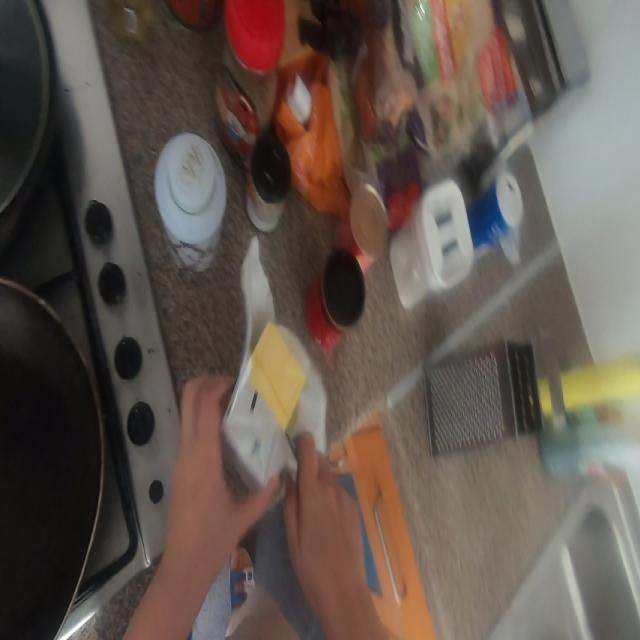butter: (228, 303, 302, 481)
left hand: (169, 378, 263, 596)
right hand: (283, 429, 368, 639)
